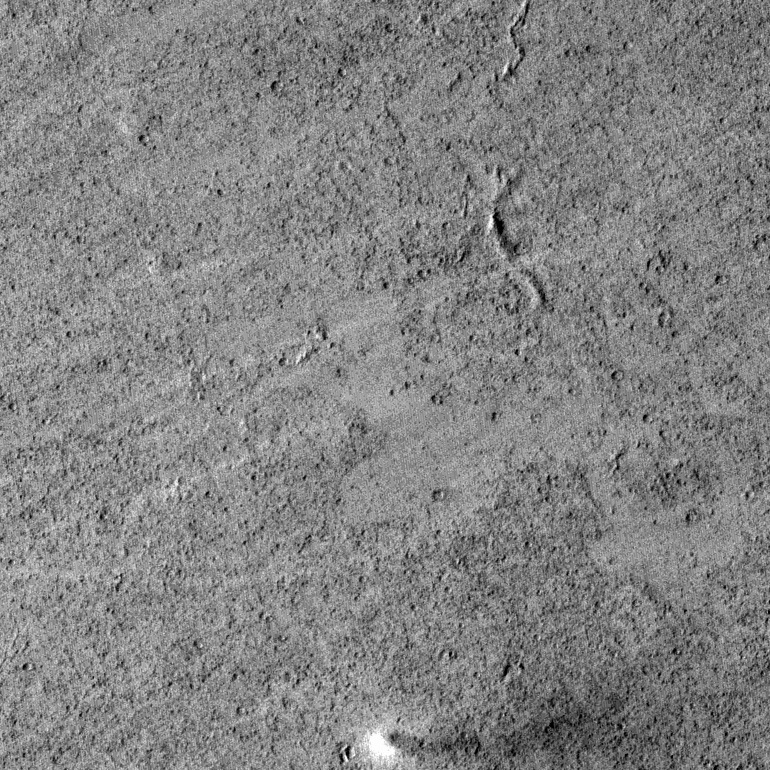dust_devil: (362, 691, 602, 766)
